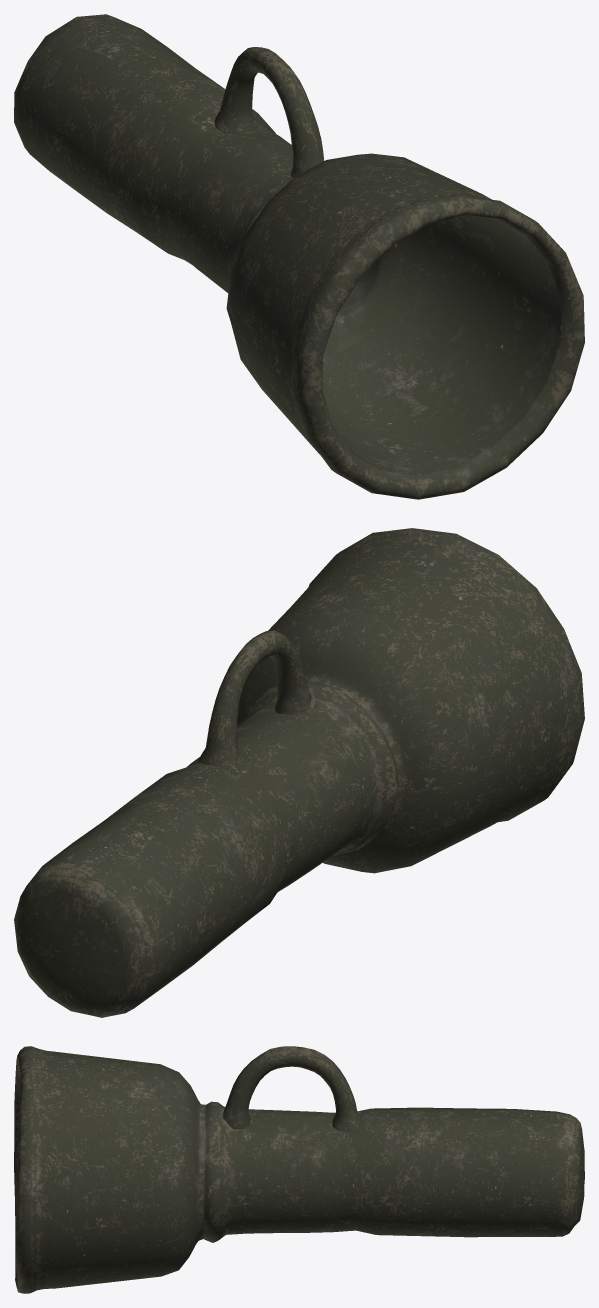
Rendered from SM_Medium_Mortar.fbx.
3 views of the same model, one above another, from view 1: azimuth 30°, elevation 25°; view 2: azimuth 150°, elevation 25°; view 3: azimuth 270°, elevation 25° (orthographic). The views are drawn at different scales.
Parts seen in each view (by area): view 1: SM_Medium_Mortar; view 2: SM_Medium_Mortar; view 3: SM_Medium_Mortar.
Boxes of the visible parts, box(x1,y1,x2,y2) form: SM_Medium_Mortar: box(14, 14, 584, 499); SM_Medium_Mortar: box(14, 528, 584, 1017); SM_Medium_Mortar: box(14, 1046, 584, 1293).
Size of the model in its own units: 28.65 by 65.77 by 30.01.
1 material, 1 textured.
